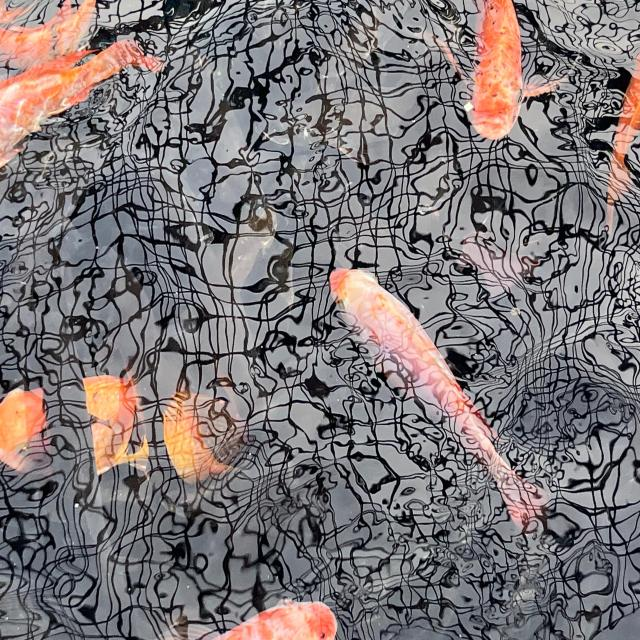ikan: (328, 265, 548, 536), (1, 36, 164, 169), (462, 0, 568, 142), (162, 386, 244, 485), (81, 372, 150, 477), (603, 52, 639, 240), (214, 598, 338, 639), (0, 385, 51, 473)
